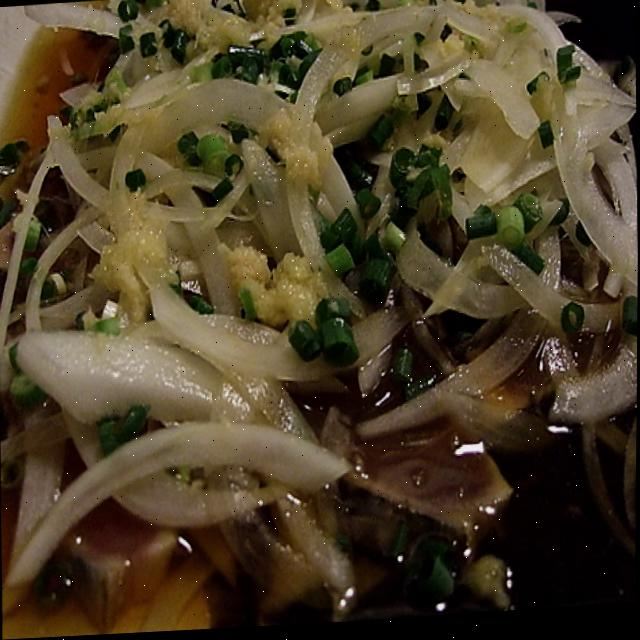熟制海鲜: (84, 78, 639, 636)
